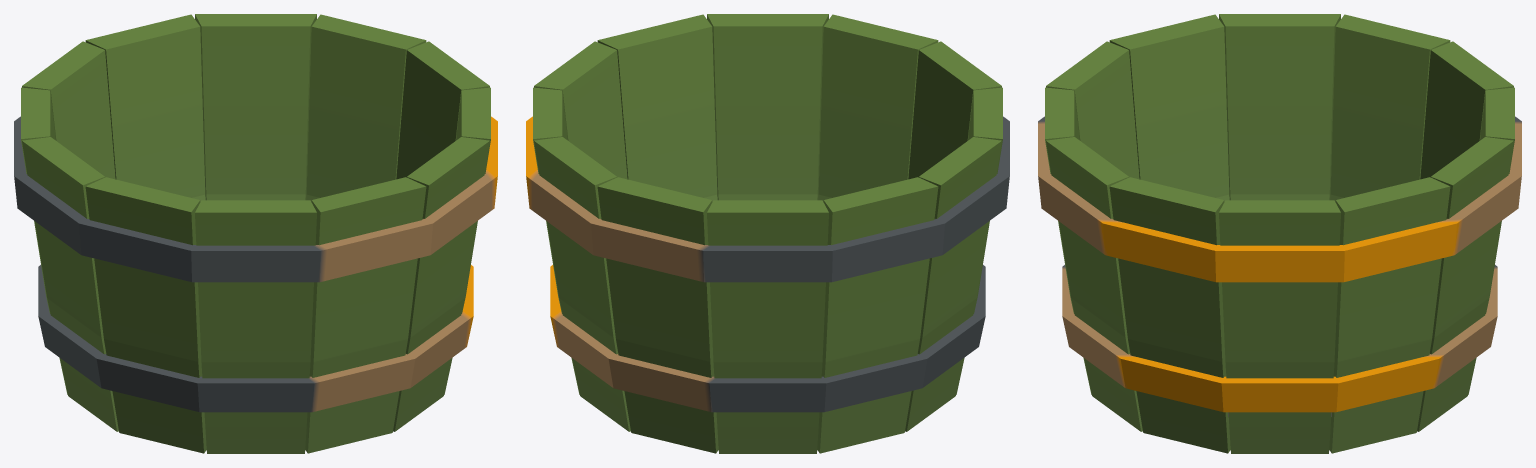
File: Basket_01.fbx
The picture shows the model from 3 angles, left to right: view 1: azimuth 30°, elevation 25°; view 2: azimuth 150°, elevation 25°; view 3: azimuth 270°, elevation 25°; orthographic projection.
Visible parts, largest first — view 1: Basket_01; view 2: Basket_01; view 3: Basket_01.
Part boxes in pixels (x1,y1,x2,y2): Basket_01: (14,14,497,453); Basket_01: (526,14,1009,453); Basket_01: (1038,14,1521,453).
Bounding box in the file's own units: 0.6398 × 0.3808 × 0.6398.
